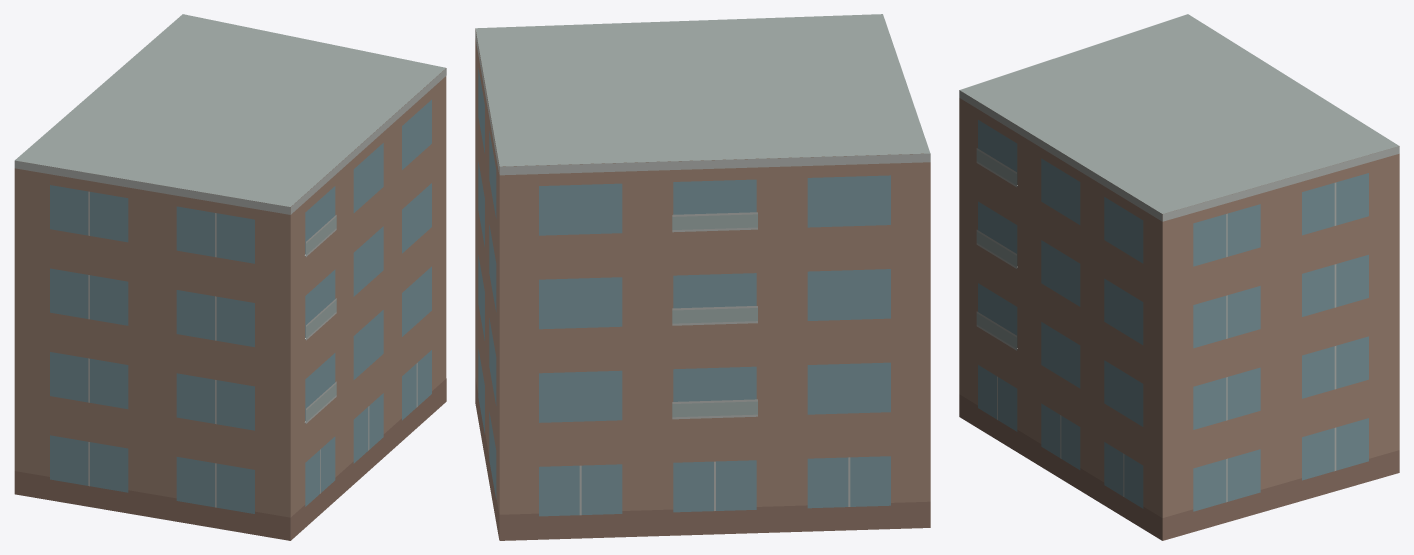
File: survey-upis-32813576.glb
The picture shows the model from 3 angles, left to right: view 1: azimuth 30°, elevation 25°; view 2: azimuth 150°, elevation 25°; view 3: azimuth 270°, elevation 25°; orthographic projection. The views are drawn at different scales.
Parts seen in each view (by area): view 1: survey-upis-32813576.tmp; view 2: survey-upis-32813576.tmp; view 3: survey-upis-32813576.tmp.
Part boxes in pixels (x1,y1,x2,y2): survey-upis-32813576.tmp: [14, 14, 446, 540]; survey-upis-32813576.tmp: [475, 14, 930, 540]; survey-upis-32813576.tmp: [959, 14, 1399, 540].
Bounding box in the file's own units: 13.67 × 10.4 × 12.71.
